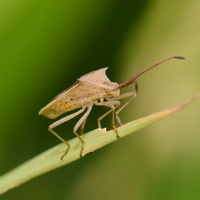insect: (38, 56, 184, 159)
